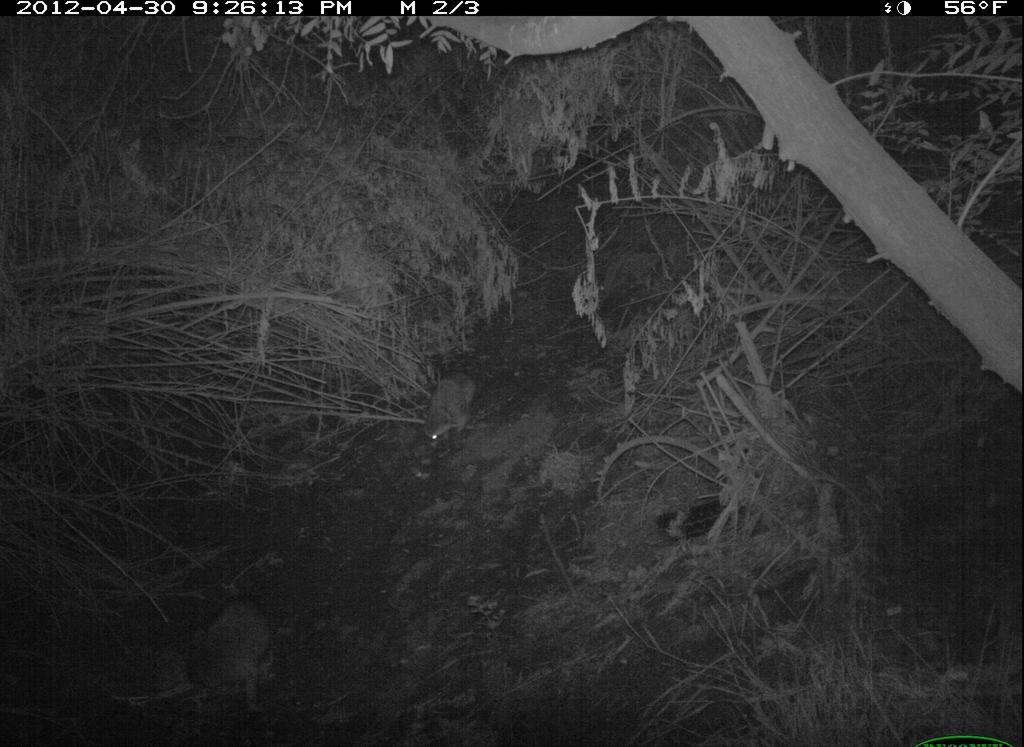raccoon: (172, 589, 291, 715), (422, 354, 488, 452)
